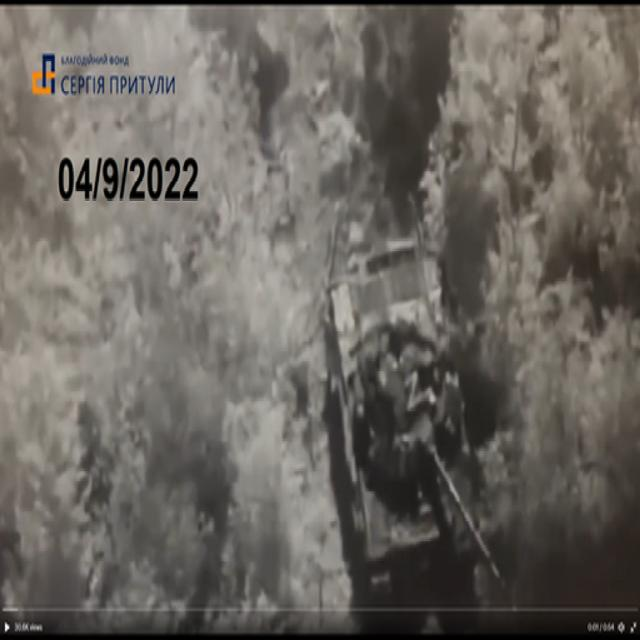TANK: (306, 218, 509, 600)
